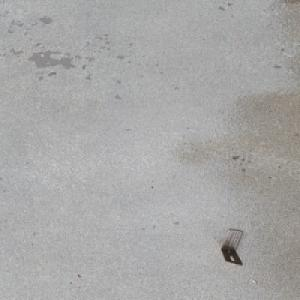MetalPart: (219, 228, 243, 266)
